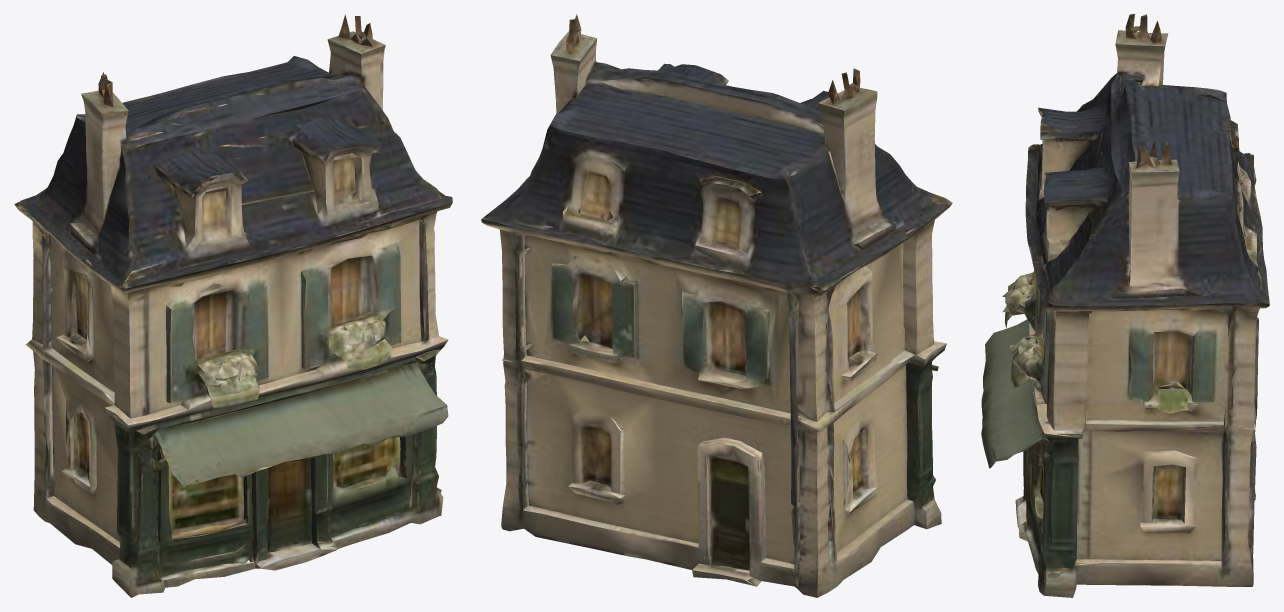
The model's file is shop_2.glb.
The picture shows the model from 3 angles, left to right: view 1: azimuth 30°, elevation 25°; view 2: azimuth 150°, elevation 25°; view 3: azimuth 270°, elevation 25°; orthographic projection. The views are drawn at different scales.
Parts seen in each view (by area): view 1: classic__shop_2__neural_lod; view 2: classic__shop_2__neural_lod; view 3: classic__shop_2__neural_lod.
Part boxes in pixels (x1,y1,x2,y2): classic__shop_2__neural_lod: (14, 14, 452, 597); classic__shop_2__neural_lod: (481, 14, 952, 597); classic__shop_2__neural_lod: (981, 14, 1269, 597).
Bounding box in the file's own units: 0.7545 × 0.9979 × 0.5803.
Materials: 1 (1 with a texture image).
